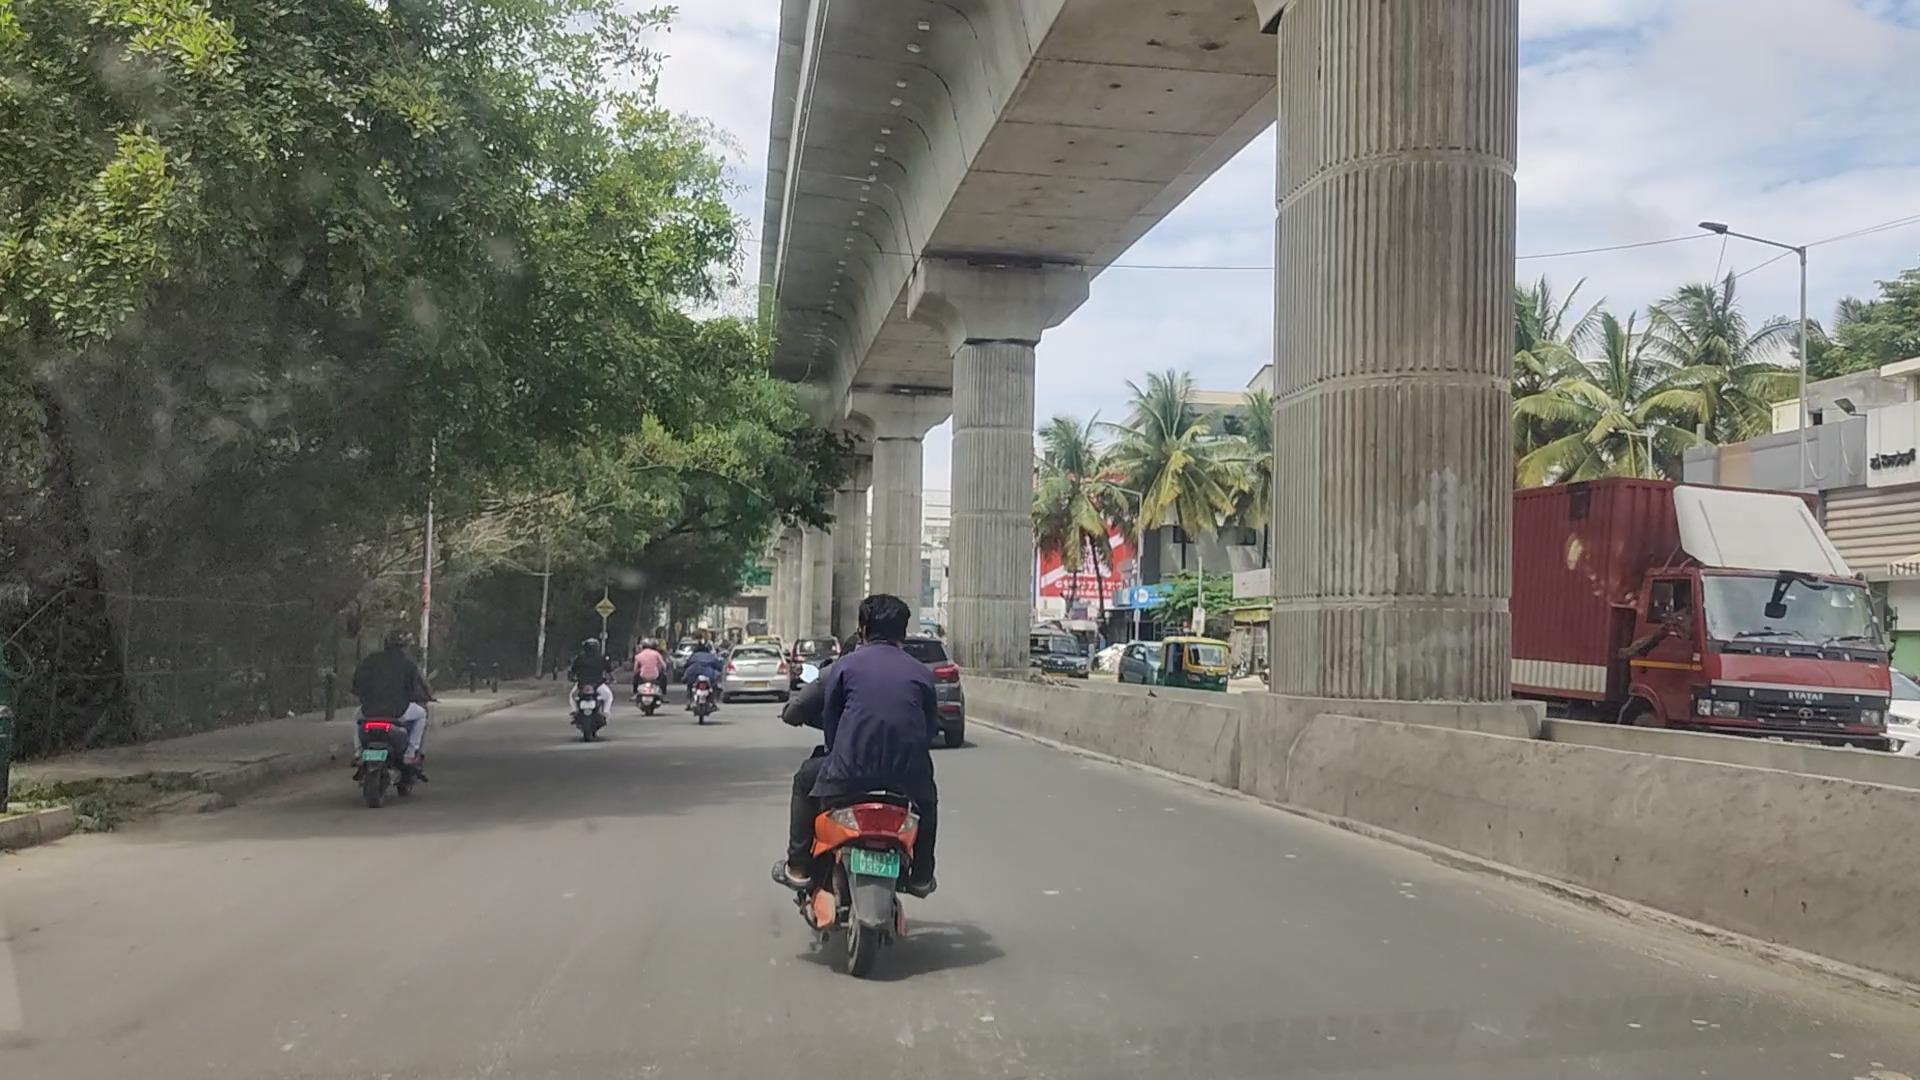LMV: (782, 555, 964, 1017), (361, 615, 435, 800), (572, 628, 620, 748), (684, 625, 735, 729)
